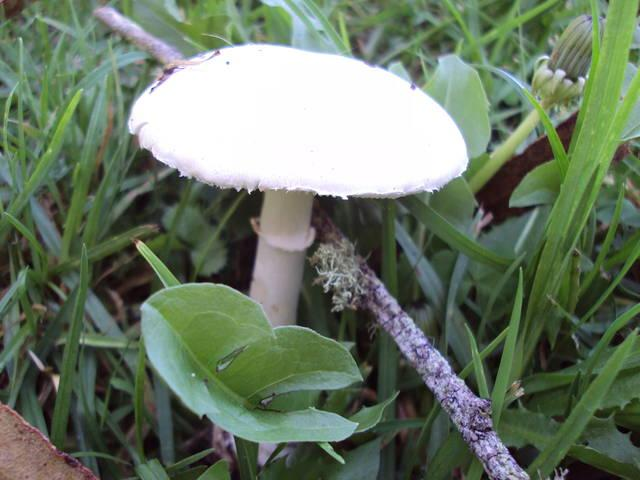poisonous_mushroom: (126, 41, 470, 329)
